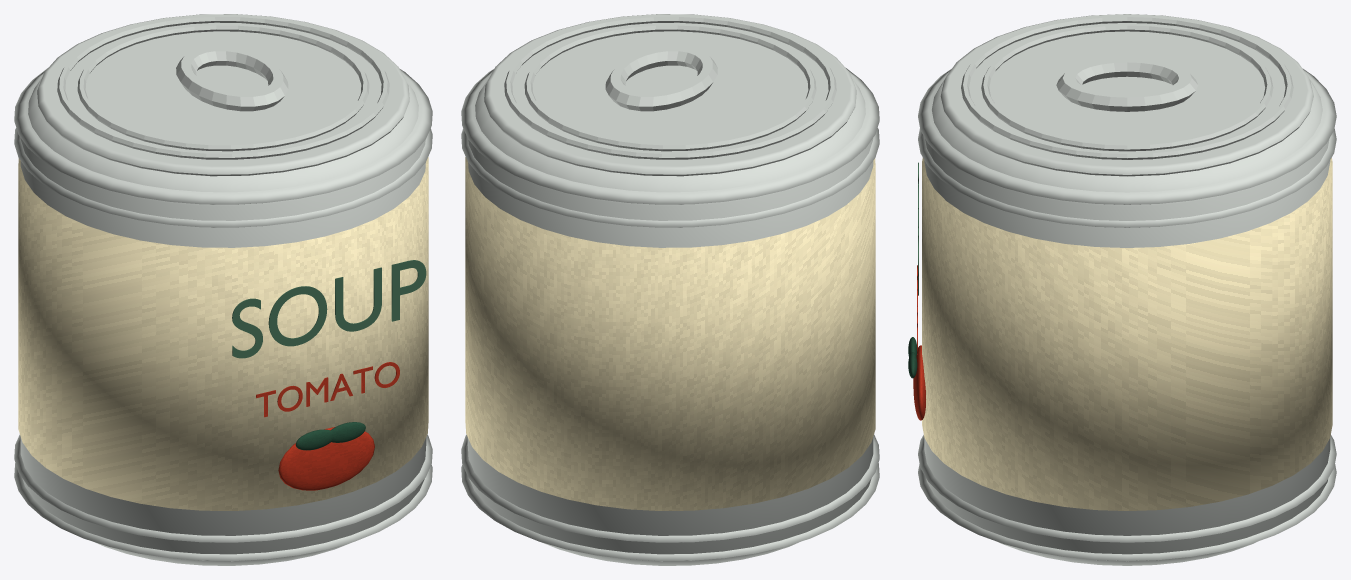
The model's file is can.fbx.
The picture shows the model from 3 angles, left to right: view 1: azimuth 30°, elevation 25°; view 2: azimuth 150°, elevation 25°; view 3: azimuth 270°, elevation 25°; orthographic projection.
Parts seen in each view (by area): view 1: Printed paper wrap, Tin body, Recessed lid, Rolled tin bead.003, Torus.002, Torus.001, SOUP, Torus.003, Rolled tin bead.001, Rolled tin bead.002, Rolled tin bead, Tomato illustration (+3 smaller); view 2: Printed paper wrap, Tin body, Recessed lid, Rolled tin bead.003, Torus.002, Torus.001, Torus.003, Rolled tin bead.001, Rolled tin bead.002, Rolled tin bead; view 3: Printed paper wrap, Tin body, Recessed lid, Rolled tin bead.003, Torus.002, Torus.001, Torus.003, Rolled tin bead.001, Rolled tin bead.002, Rolled tin bead, Tomato illustration.
Boxes of the visible parts, left/top/right/bottom form: Printed paper wrap: left=18, top=157, right=428, bottom=510; Tin body: left=20, top=77, right=426, bottom=565; Recessed lid: left=37, top=14, right=409, bottom=176; Rolled tin bead.003: left=14, top=68, right=432, bottom=204; Torus.002: left=57, top=15, right=389, bottom=159; Torus.001: left=77, top=23, right=369, bottom=151; SOUP: left=232, top=260, right=426, bottom=358; Torus.003: left=176, top=46, right=288, bottom=111; Rolled tin bead.001: left=14, top=434, right=432, bottom=542; Rolled tin bead.002: left=14, top=128, right=432, bottom=227; Rolled tin bead: left=14, top=463, right=432, bottom=561; Tomato illustration: left=278, top=427, right=374, bottom=490; Printed paper wrap: left=465, top=157, right=875, bottom=510; Tin body: left=467, top=77, right=873, bottom=565; Recessed lid: left=484, top=14, right=856, bottom=176; Rolled tin bead.003: left=461, top=68, right=879, bottom=204; Torus.002: left=504, top=15, right=836, bottom=159; Torus.001: left=524, top=23, right=816, bottom=151; Torus.003: left=605, top=46, right=717, bottom=111; Rolled tin bead.001: left=461, top=434, right=879, bottom=542; Rolled tin bead.002: left=461, top=128, right=879, bottom=227; Rolled tin bead: left=461, top=463, right=879, bottom=561; Printed paper wrap: left=922, top=157, right=1332, bottom=510; Tin body: left=924, top=79, right=1330, bottom=565; Recessed lid: left=940, top=14, right=1313, bottom=176; Rolled tin bead.003: left=918, top=68, right=1336, bottom=204; Torus.002: left=961, top=15, right=1293, bottom=159; Torus.001: left=981, top=23, right=1273, bottom=151; Torus.003: left=1056, top=58, right=1198, bottom=111; Rolled tin bead.001: left=918, top=434, right=1336, bottom=542; Rolled tin bead.002: left=918, top=129, right=1336, bottom=227; Rolled tin bead: left=918, top=464, right=1336, bottom=561; Tomato illustration: left=913, top=345, right=925, bottom=420.
Bounding box in the file's own units: 82.6 × 90.76 × 84.5.
5 materials, 3 textured.
